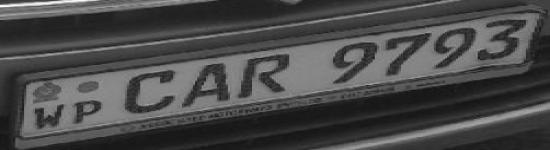3: (475, 17, 531, 61)
7: (383, 31, 432, 76)
9: (329, 40, 381, 85), (430, 26, 479, 71)
A: (177, 61, 234, 110)
C: (122, 68, 177, 116)
P: (72, 99, 106, 127)
R: (234, 51, 292, 101)
W: (29, 102, 68, 130)
